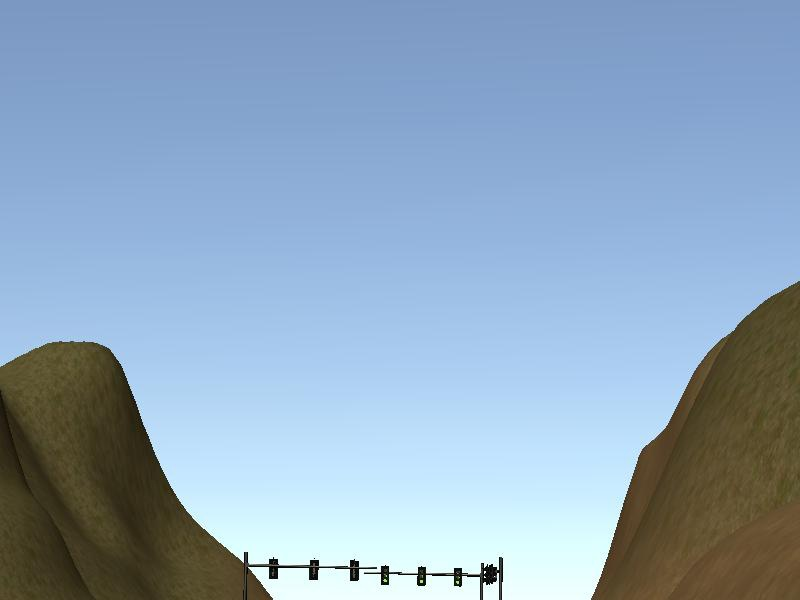green_light: (380, 565, 389, 585), (418, 567, 427, 586), (455, 568, 463, 587)
